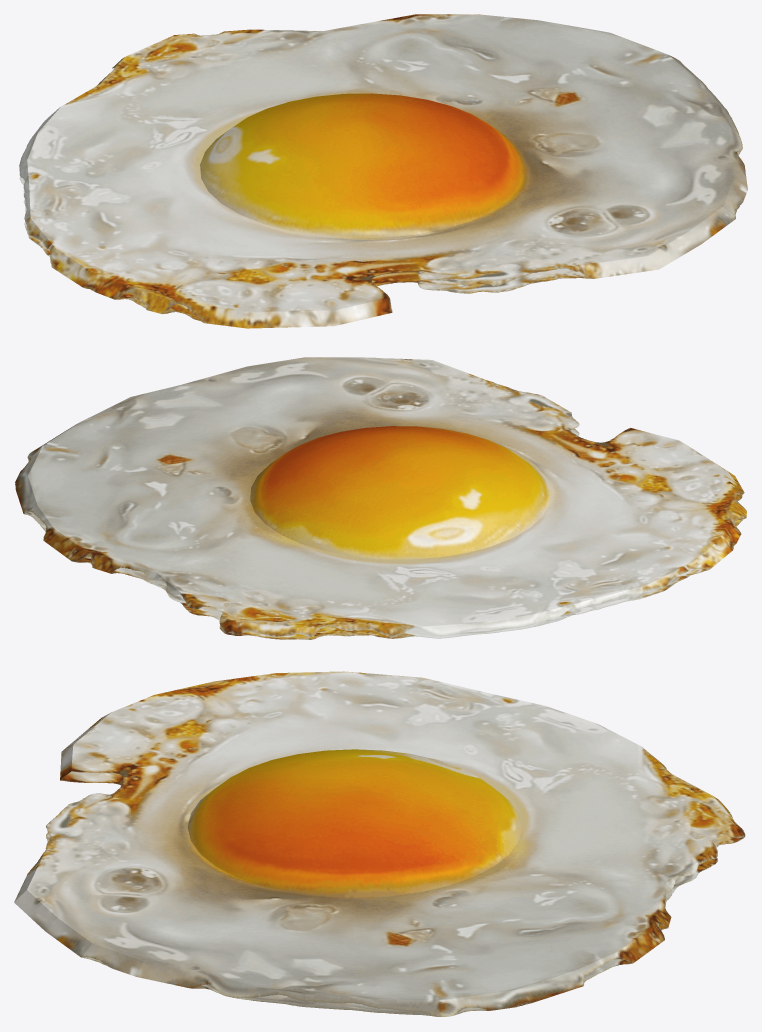
File: yolk.FBX
3 views of the same model, one above another, from view 1: azimuth 30°, elevation 25°; view 2: azimuth 150°, elevation 25°; view 3: azimuth 270°, elevation 25° (orthographic). The views are drawn at different scales.
Visible parts, largest first — view 1: Sphere001; view 2: Sphere001; view 3: Sphere001.
Boxes of the visible parts, bbox=[...] form: Sphere001: bbox=[19, 14, 747, 328]; Sphere001: bbox=[15, 357, 746, 639]; Sphere001: bbox=[14, 671, 745, 1016].
Bounding box in the file's own units: 51.79 × 3.92 × 47.
Materials: 1 (1 with a texture image).
